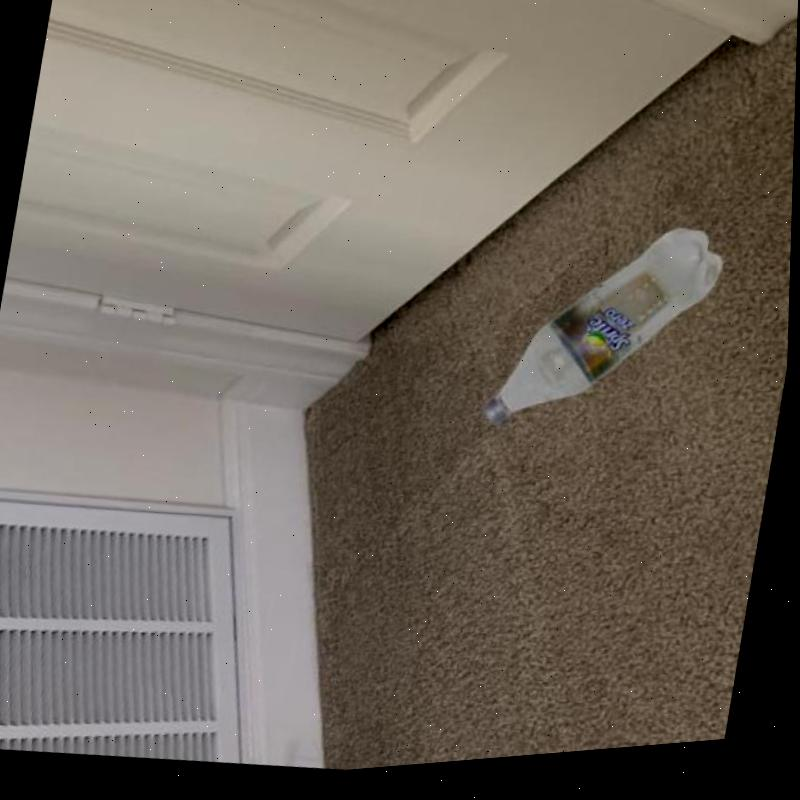botella: (481, 210, 732, 459)
